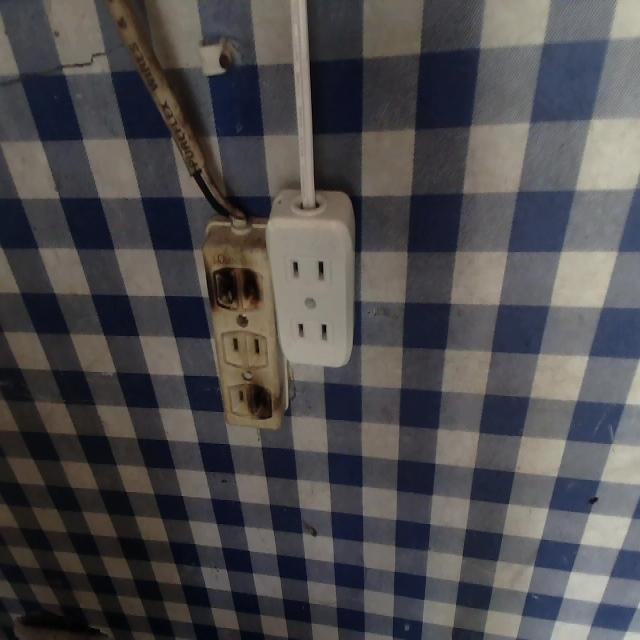-: (206, 263, 266, 312), (247, 383, 277, 416)
